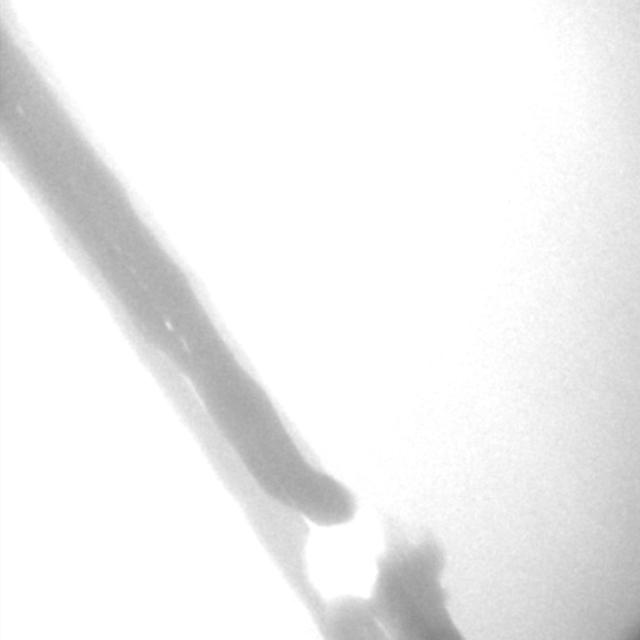air hole: (15, 102, 24, 115), (163, 320, 172, 331)
broken arc: (300, 511, 391, 637)
